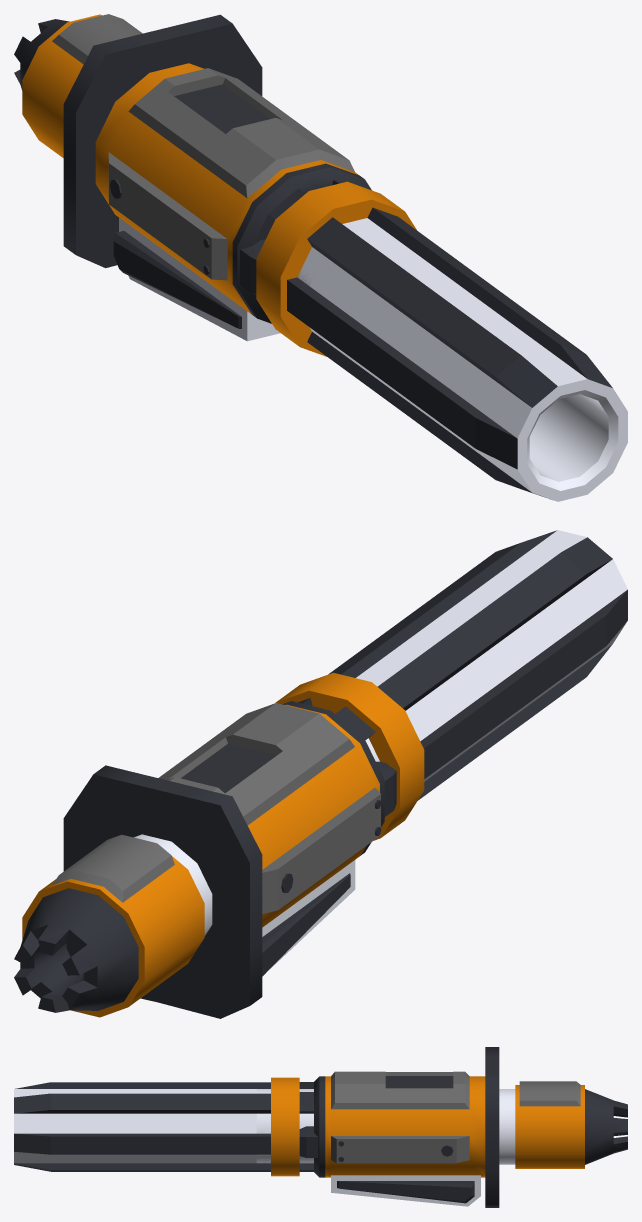
The model's file is Rocket1.fbx.
3 views of the same model, one above another, from view 1: azimuth 30°, elevation 25°; view 2: azimuth 150°, elevation 25°; view 3: azimuth 270°, elevation 25° (orthographic). The views are drawn at different scales.
Parts seen in each view (by area): view 1: front_007, middle_007, back_006; view 2: middle_007, front_007, back_006; view 3: middle_007, front_007, back_006.
Boxes of the visible parts, box(x1,y1,x2,y2) form: front_007: box(256, 181, 627, 501); middle_007: box(63, 14, 375, 341); back_006: box(14, 14, 142, 157); middle_007: box(63, 698, 396, 1018); front_007: box(275, 530, 627, 840); back_006: box(14, 834, 212, 1017); middle_007: box(256, 1047, 499, 1207); front_007: box(14, 1077, 299, 1176); back_006: box(499, 1081, 627, 1168).
Bounding box in the file's own units: 8.8 × 9.75 × 43.
